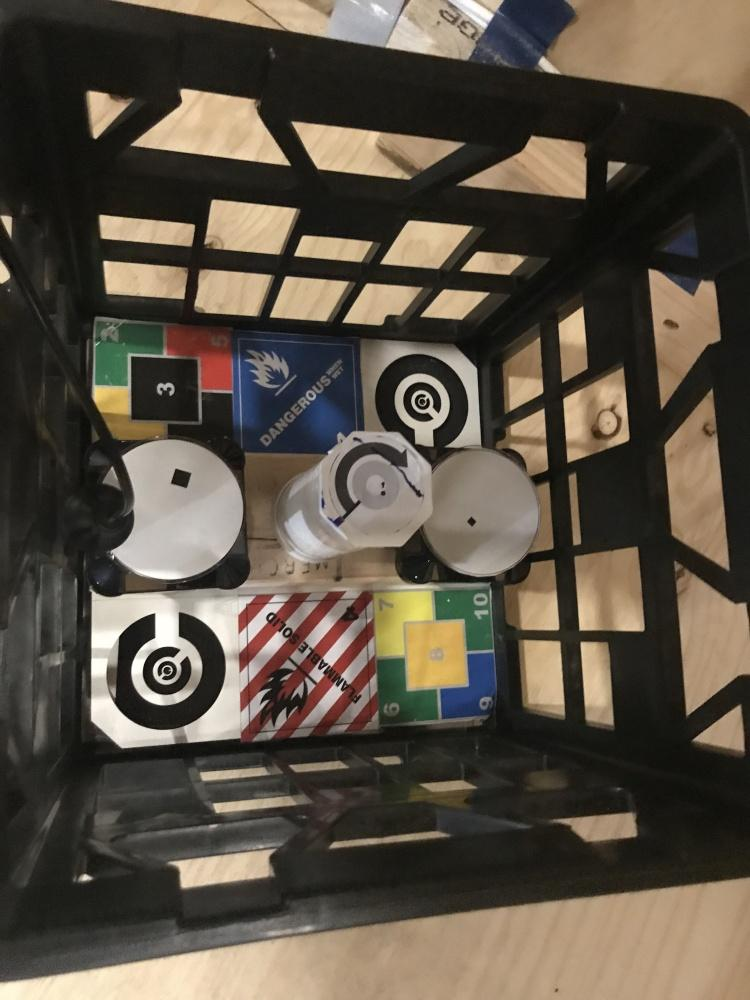dangerous-when-wet: (237, 340, 361, 455)
flammable-solid: (238, 592, 376, 733)
